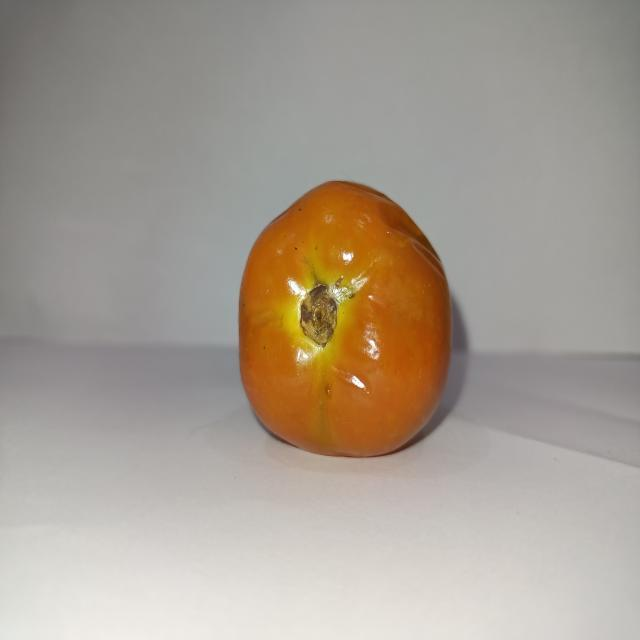Red: (236, 178, 453, 458)
